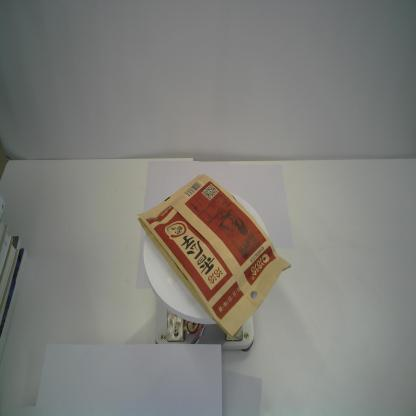Dried Food: (134, 171, 292, 340)
